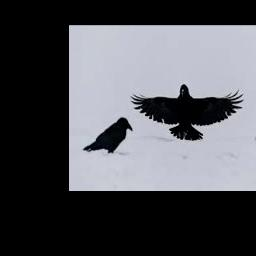Crow: (131, 84, 244, 141), (83, 117, 133, 153)
